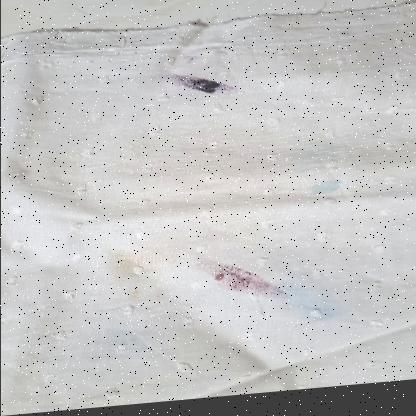spot: (189, 261, 300, 305), (270, 280, 343, 333), (154, 75, 253, 101), (110, 249, 154, 281), (302, 184, 344, 205), (127, 290, 142, 303), (151, 293, 165, 306)
